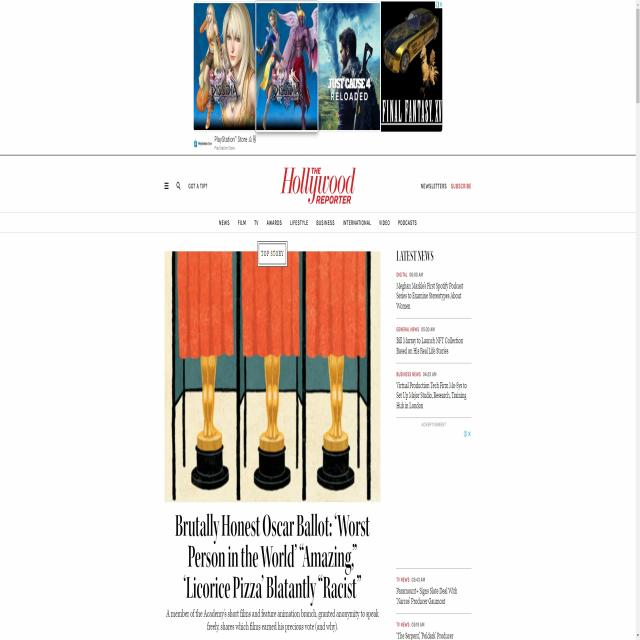side-panel: (389, 240, 475, 640)
tab-bar: (217, 212, 419, 230)
